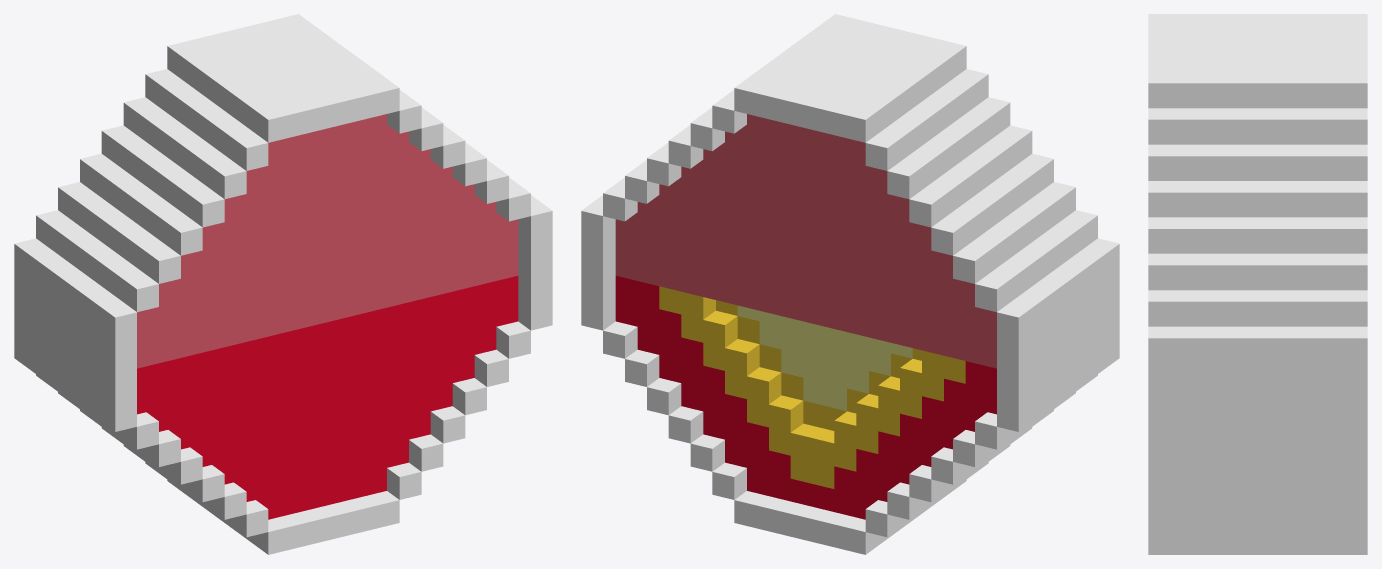
File: placeholder.gltf
The picture shows the model from 3 angles, left to right: view 1: azimuth 30°, elevation 25°; view 2: azimuth 150°, elevation 25°; view 3: azimuth 270°, elevation 25°; orthographic projection. The views are drawn at different scales.
Parts seen in each view (by area): view 1: Layer.WhiteBorder, Layer.PinkInside1, Layer.Red; view 2: Layer.WhiteBorder, Layer.PinkInside1, Layer.Red, Layer.Yellow, Layer.PaleYellow; view 3: Layer.WhiteBorder.
Boxes of the visible parts, bbox=[...] form: Layer.WhiteBorder: bbox=[14, 14, 552, 554]; Layer.PinkInside1: bbox=[137, 114, 518, 368]; Layer.Red: bbox=[137, 276, 518, 519]; Layer.WhiteBorder: bbox=[581, 14, 1119, 554]; Layer.PinkInside1: bbox=[615, 114, 996, 368]; Layer.Red: bbox=[615, 276, 996, 519]; Layer.Yellow: bbox=[659, 286, 965, 488]; Layer.PaleYellow: bbox=[737, 305, 912, 411]; Layer.WhiteBorder: bbox=[1148, 14, 1367, 554].
Size of the model in its own units: 20 by 19 by 8.
5 materials, 5 textured.
